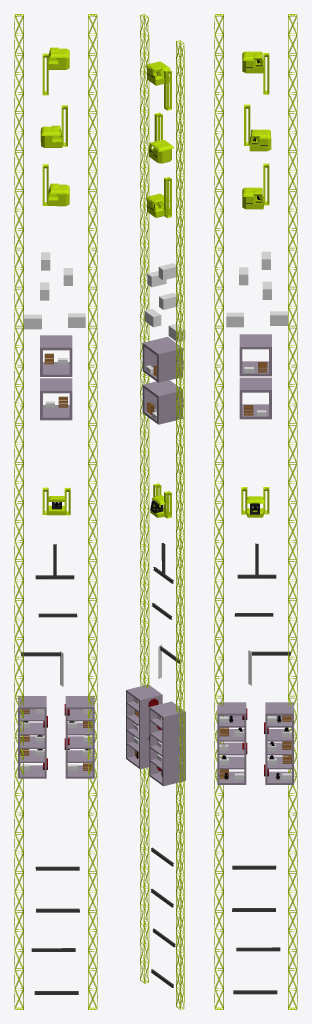
File: Assets for level00 .fbx
3 renders of one model, left to right at view 1: azimuth 90°, elevation 25°; view 2: azimuth 210°, elevation 25°; view 3: azimuth 270°, elevation 25°, orthographic. The views are drawn at different scales.
Visible parts, largest first — view 1: Cube.039, Cube.035, Building 002, Building.001, Cube.036, Cube.040, Cube.015, CRANE 1, Crane 2, cran 3, cotainer .001, cotainer .003 (+3 smaller); view 2: Cube.039, Cube.035, Building.001, Building 002, Cube.040, Cube.036, Cube.015, Crane 2, cran 3, CRANE 1, Cran3 arm, CRANE1 ARM (+6 smaller); view 3: Cube.039, Cube.035, Building 002, Building.001, Cube.040, Cube.036, Cube.015, Crane 2, cran 3, CRANE 1, cotainer .003, cotainer .001 (+3 smaller).
Boxes of the visible parts, x1,y1,x2,y2 form: Cube.039: [14, 14, 23, 1009]; Cube.035: [88, 14, 97, 1009]; Building 002: [64, 696, 94, 778]; Building.001: [18, 696, 47, 778]; Cube.036: [40, 378, 72, 420]; Cube.040: [40, 335, 72, 376]; Cube.015: [42, 487, 70, 515]; CRANE 1: [48, 183, 69, 206]; Crane 2: [40, 125, 62, 147]; cran 3: [48, 47, 69, 69]; cotainer .001: [24, 314, 41, 329]; cotainer .003: [68, 313, 85, 327]; Cube.039: [176, 40, 184, 1009]; Cube.035: [140, 14, 149, 983]; Building.001: [149, 701, 185, 786]; Building 002: [126, 684, 162, 769]; Cube.040: [142, 337, 183, 382]; Cube.036: [142, 380, 183, 424]; Cube.015: [150, 483, 171, 518]; Crane 2: [148, 140, 173, 163]; cran 3: [145, 61, 170, 85]; CRANE 1: [145, 193, 169, 217]; Cran3 arm: [164, 69, 171, 110]; CRANE1 ARM: [164, 177, 171, 217]; Cube.039: [288, 14, 297, 1009]; Cube.035: [214, 14, 223, 1009]; Building 002: [217, 702, 247, 784]; Building.001: [264, 702, 293, 784]; Cube.040: [239, 334, 271, 376]; Cube.036: [239, 377, 271, 419]; Cube.015: [241, 487, 269, 517]; Crane 2: [249, 129, 271, 151]; cran 3: [242, 51, 263, 73]; CRANE 1: [242, 187, 263, 209]; cotainer .003: [226, 312, 243, 327]; cotainer .001: [270, 311, 287, 325].
Bounding box in the file's own units: 618 × 18505 × 1402.
